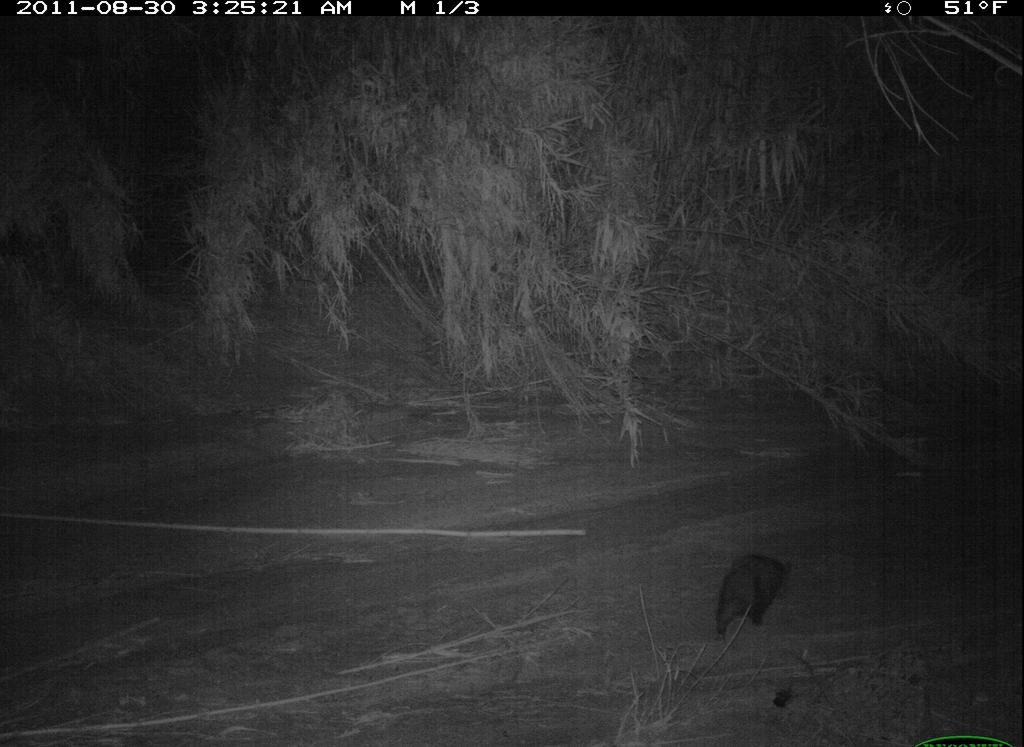opossum: (661, 524, 799, 652)
